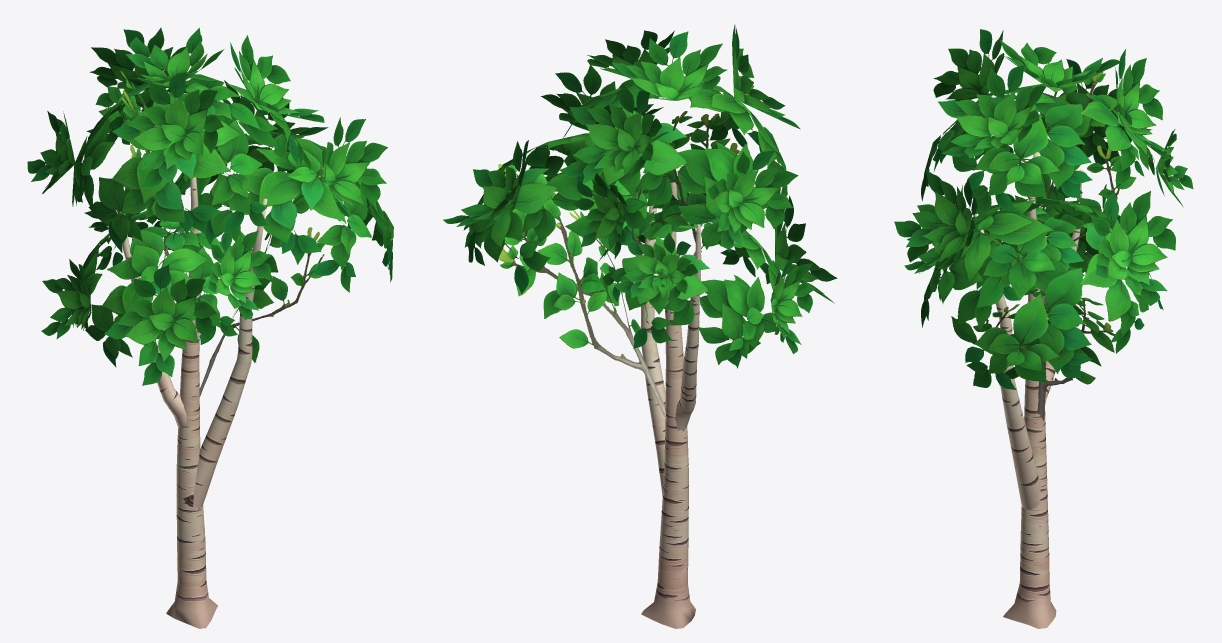
Rendered from SE_Birch_01.fbx.
The picture shows the model from 3 angles, left to right: view 1: azimuth 30°, elevation 25°; view 2: azimuth 150°, elevation 25°; view 3: azimuth 270°, elevation 25°; orthographic projection.
Visible parts, largest first — view 1: SE_Birch_01; view 2: SE_Birch_01; view 3: SE_Birch_01.
Part boxes in pixels (<box>): SE_Birch_01: <box>27,27,393,628</box>; SE_Birch_01: <box>443,24,837,628</box>; SE_Birch_01: <box>894,29,1193,628</box>.
Size of the model in its own units: 6.07 by 10.12 by 5.14.
